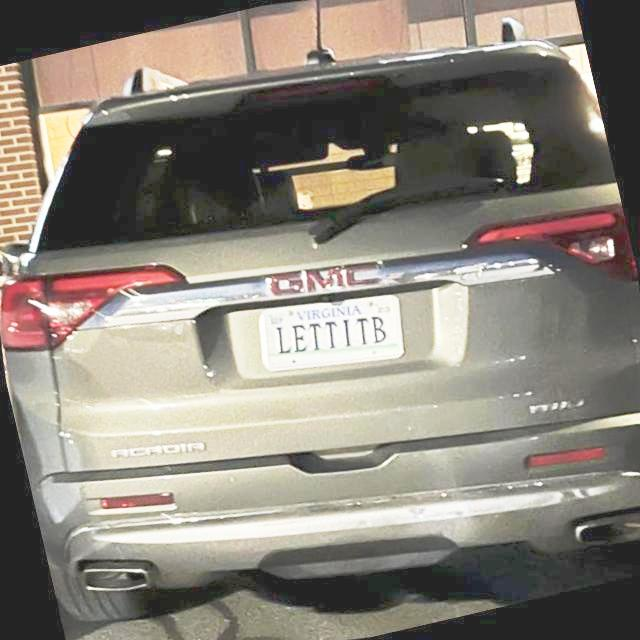license_plate: (257, 293, 405, 377)
